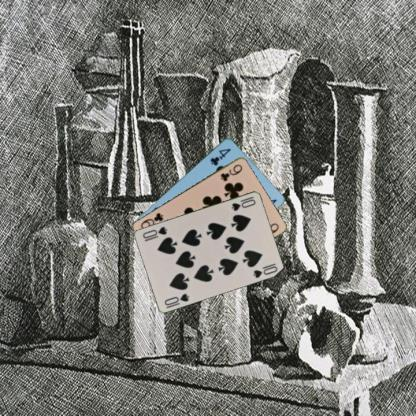10s: (228, 194, 256, 212), (162, 290, 190, 306)
4c: (208, 146, 232, 168)
9c: (218, 161, 244, 183)
